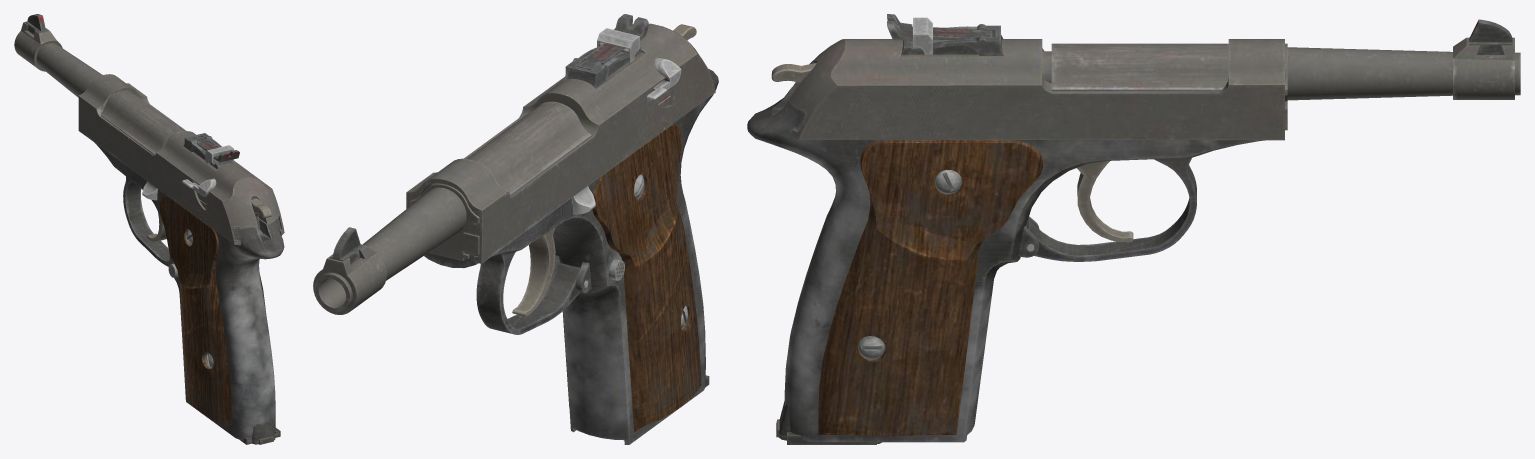
File: world_pistol.glb
3 views of the same model, side by side, from view 1: azimuth 30°, elevation 25°; view 2: azimuth 150°, elevation 25°; view 3: azimuth 270°, elevation 25° (orthographic). The views are drawn at different scales.
Visible parts, largest first — view 1: service_pistol_pistol_a, service_pistol_slide_a, service_pistol_magazine_loaded, service_pistol_hammer_a; view 2: service_pistol_pistol_a, service_pistol_slide_a, service_pistol_trigger_a; view 3: service_pistol_pistol_a, service_pistol_slide_a, service_pistol_trigger_a, service_pistol_magazine_loaded.
Part boxes in pixels (<box>): service_pistol_pistol_a: <box>14,14,284,440</box>; service_pistol_slide_a: <box>78,74,284,245</box>; service_pistol_magazine_loaded: <box>240,417,280,444</box>; service_pistol_hammer_a: <box>251,198,271,234</box>; service_pistol_pistol_a: <box>313,68,718,444</box>; service_pistol_slide_a: <box>406,14,715,263</box>; service_pistol_trigger_a: <box>512,227,555,316</box>; service_pistol_pistol_a: <box>747,19,1520,442</box>; service_pistol_slide_a: <box>789,14,1284,140</box>; service_pistol_trigger_a: <box>1077,161,1133,242</box>; service_pistol_magazine_loaded: <box>776,401,881,444</box>.
Size of the model in its own units: 0.0318 by 0.1307 by 0.2219.
1 material, 1 textured.
